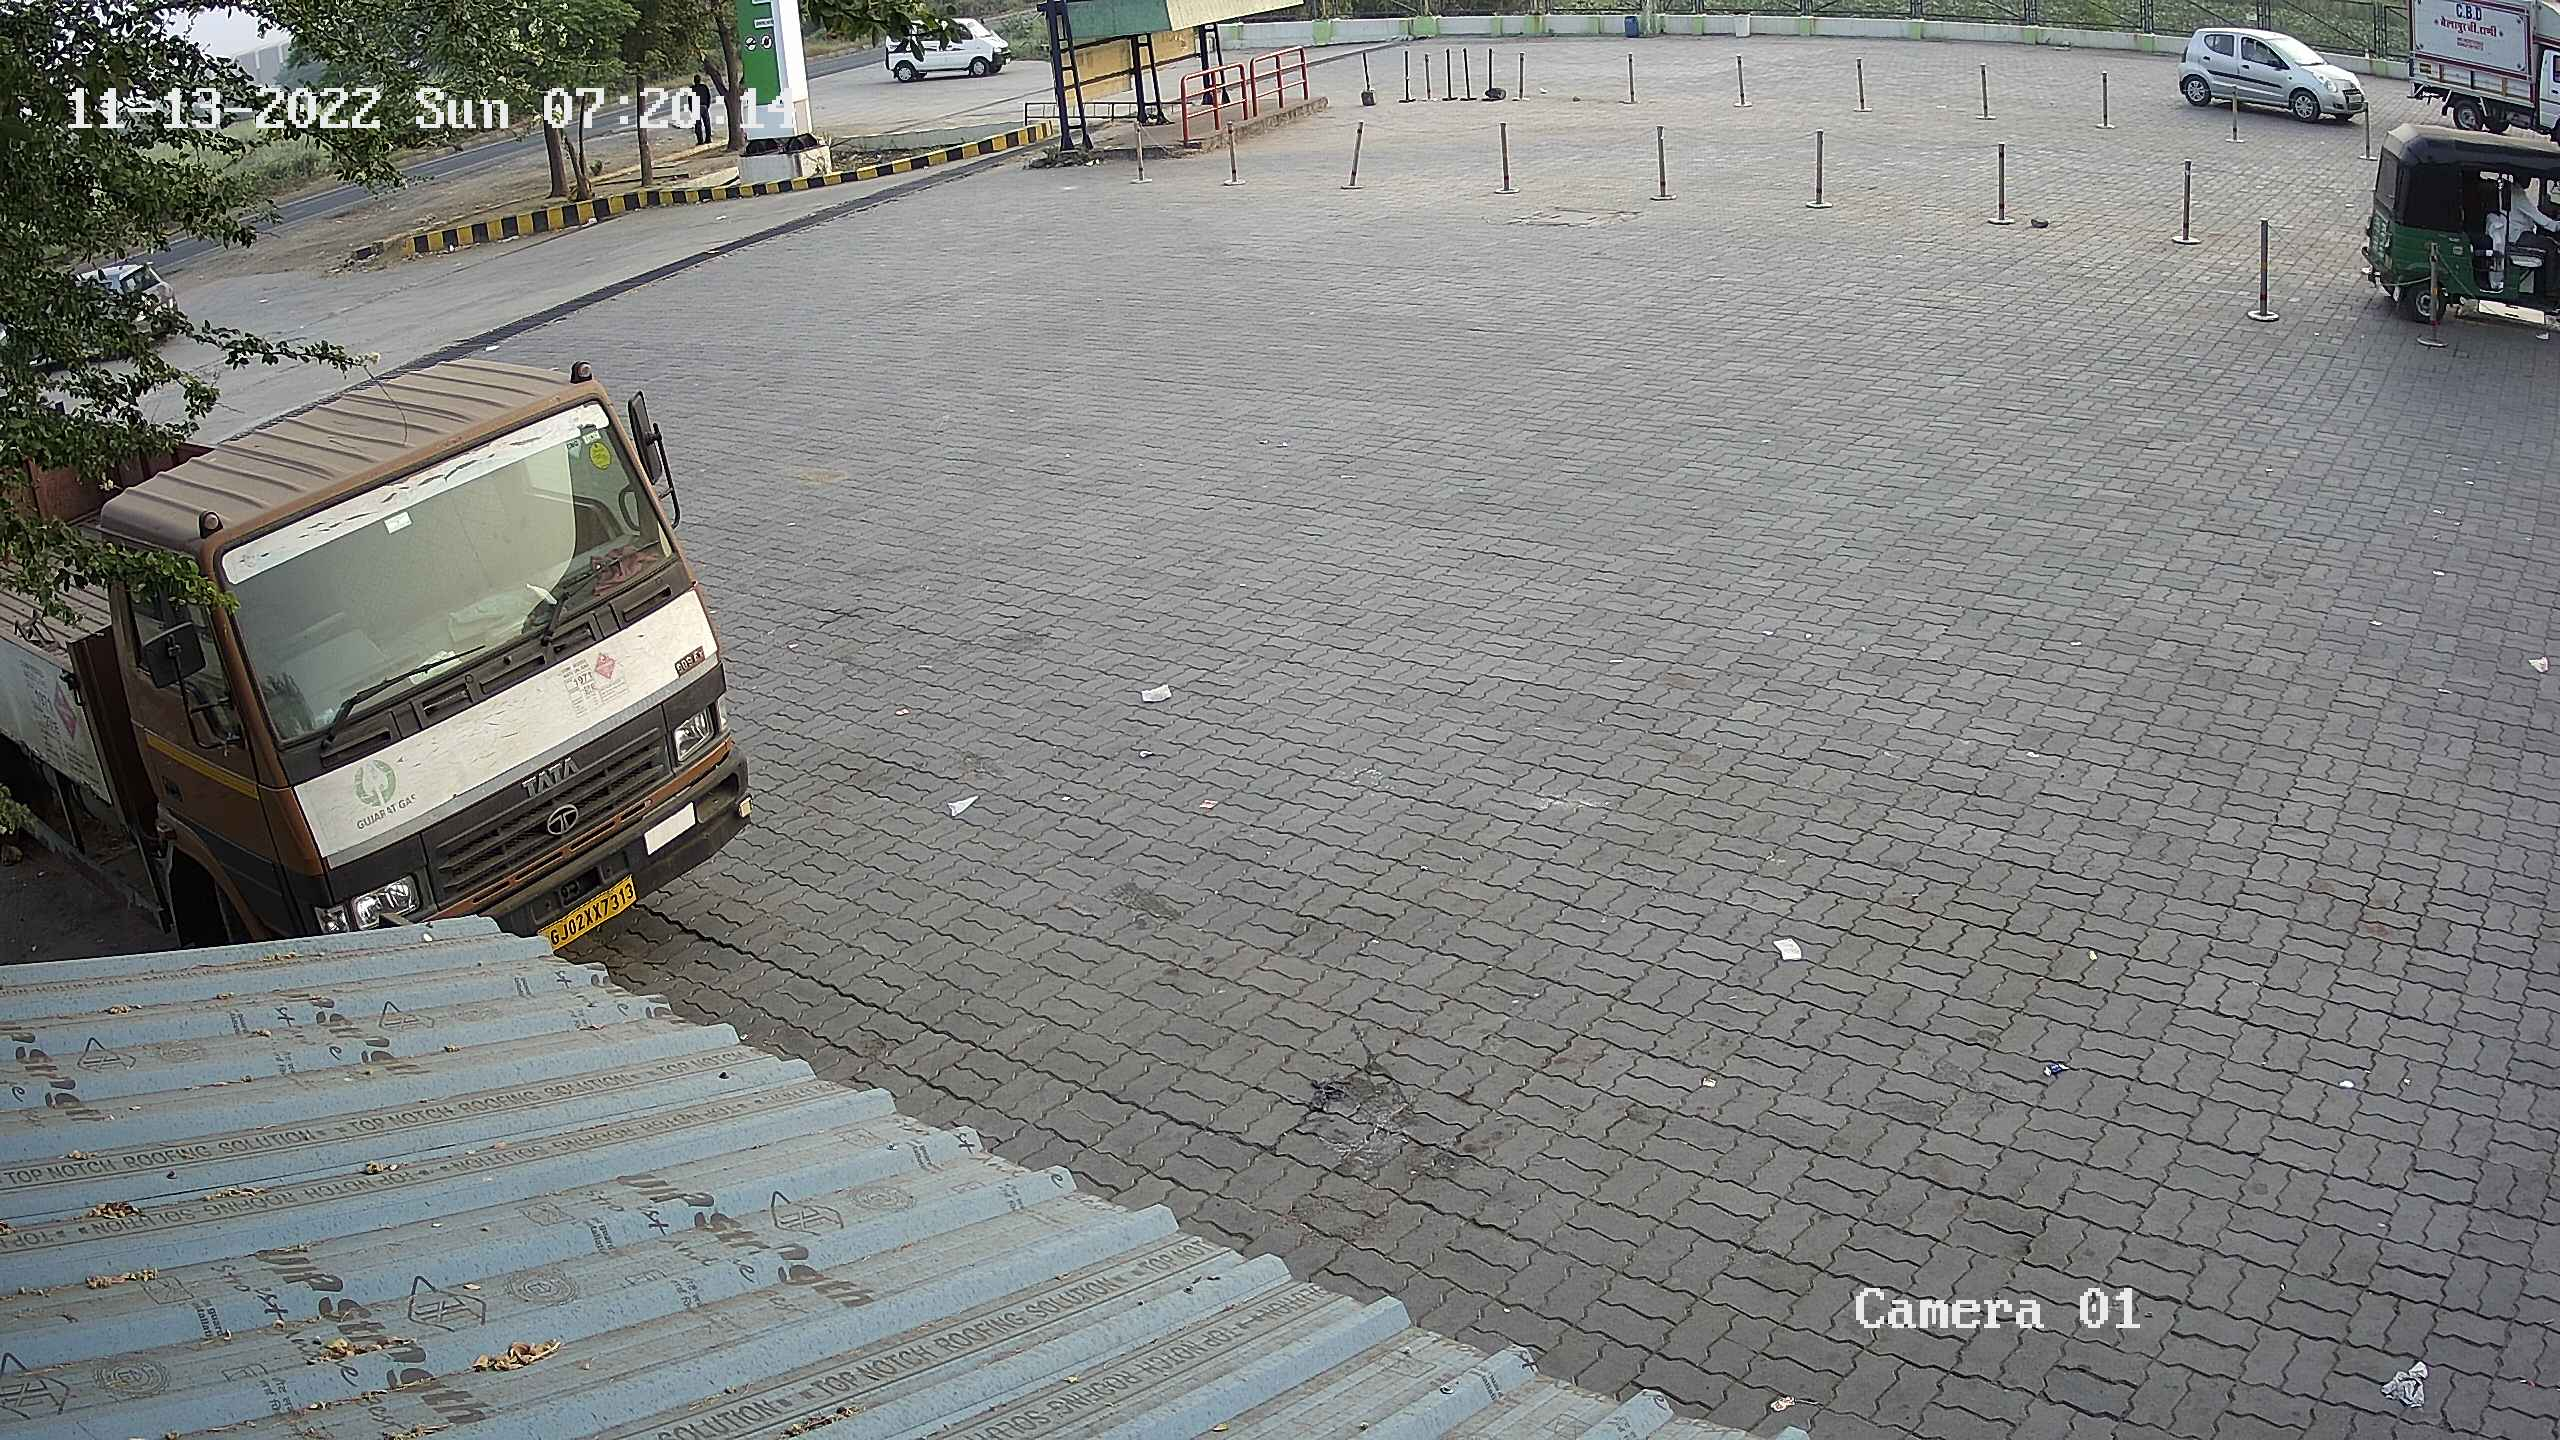Auto: (2344, 116, 2560, 350)
Car: (2396, 2, 2556, 160), (2171, 18, 2379, 132), (0, 257, 192, 376), (865, 9, 1013, 83)
